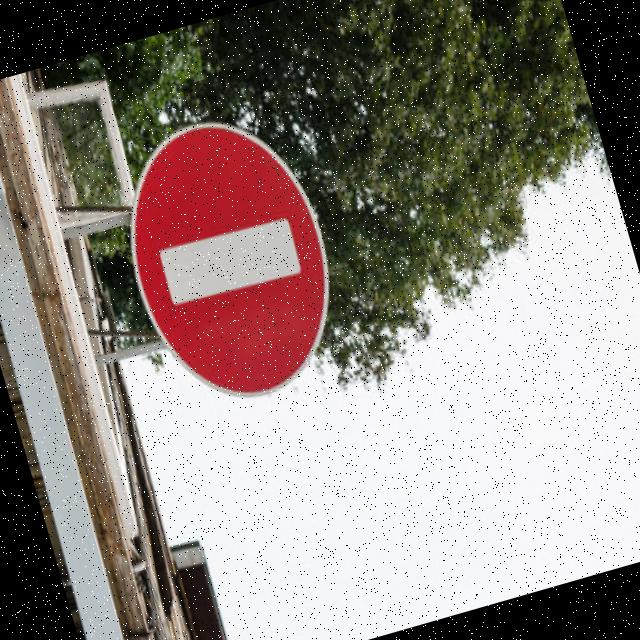do_not_enter: (98, 84, 365, 430)
